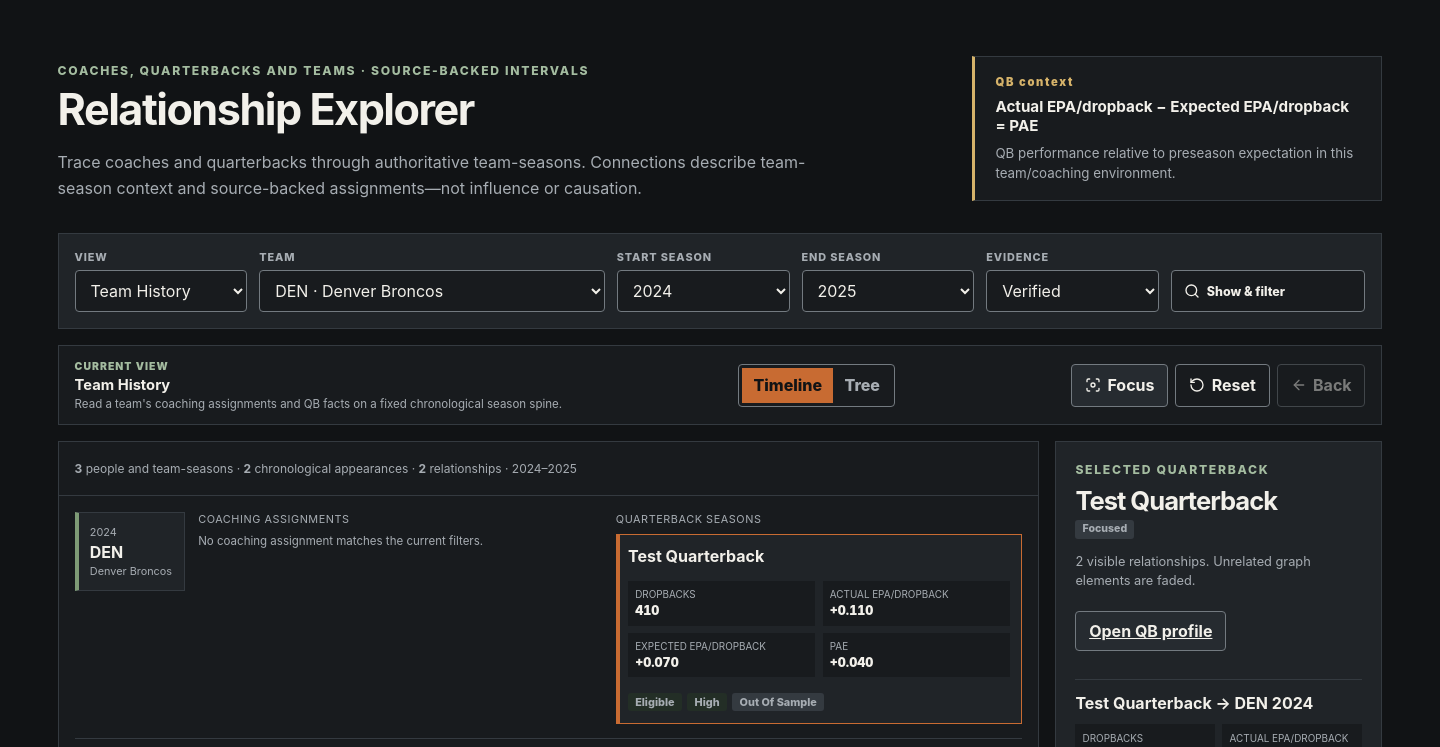
Test: NetworkPage Relationship Explorer › reconstructs every supported display filter and canonical selection from the URL
Expected: the text "Selected quarterback" is shown, [1075,462,1269,477]
Click the heading "Show & filter". click: click(1268, 291)
box: [1171,270,1365,312]
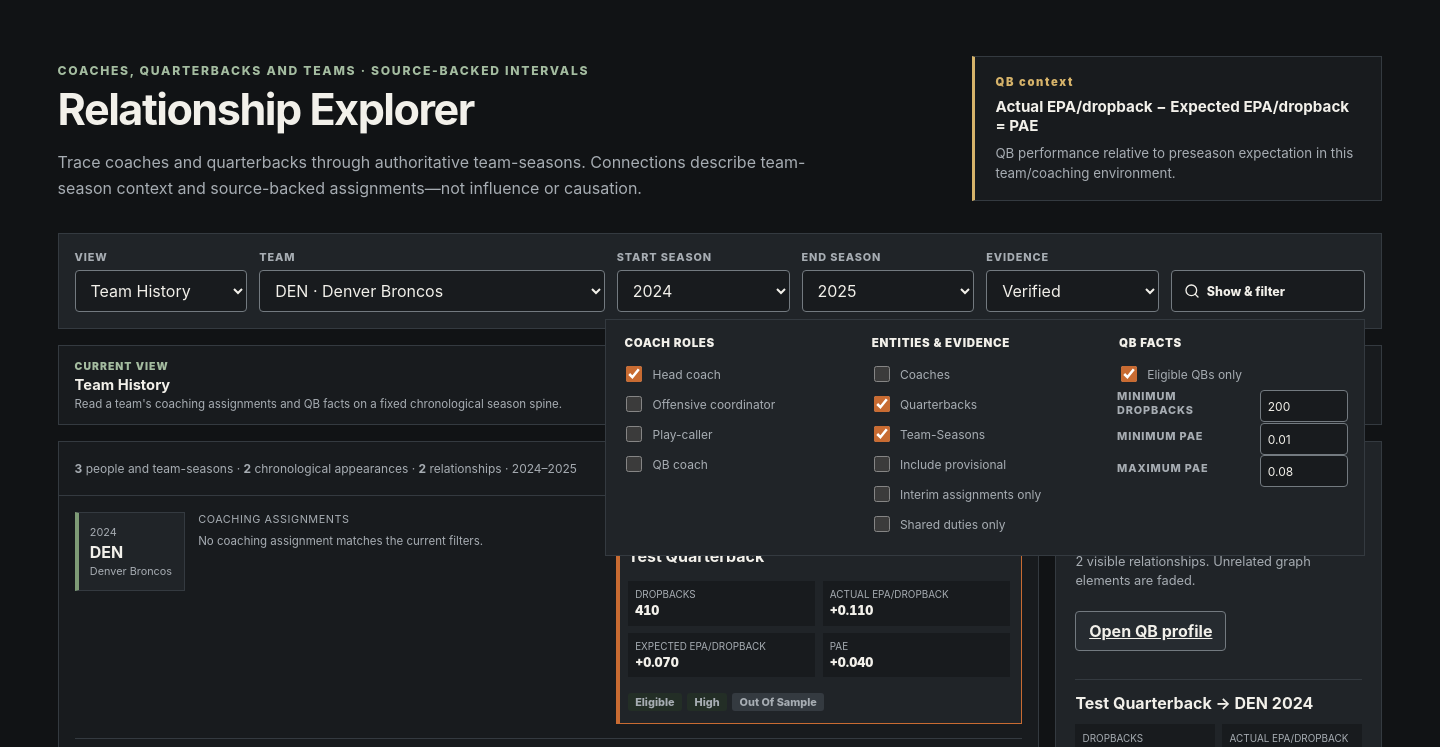
Expected: the checkbox labelled "Head coach" is checked, [626,366,642,382]
Expected: the checkbox labelled "Offensive coordinator" is not checked, [626,396,642,412]
Expected: the checkbox labelled "Coaches" is not checked, [874,366,890,382]
